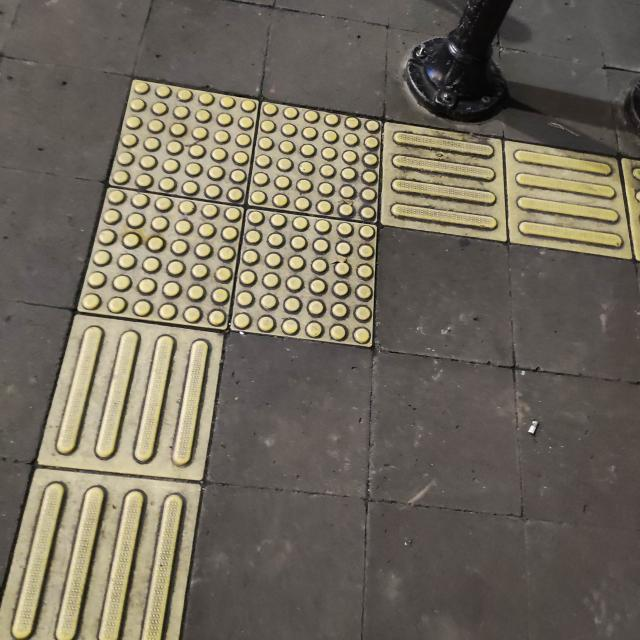kanan: (13, 45, 640, 417)
